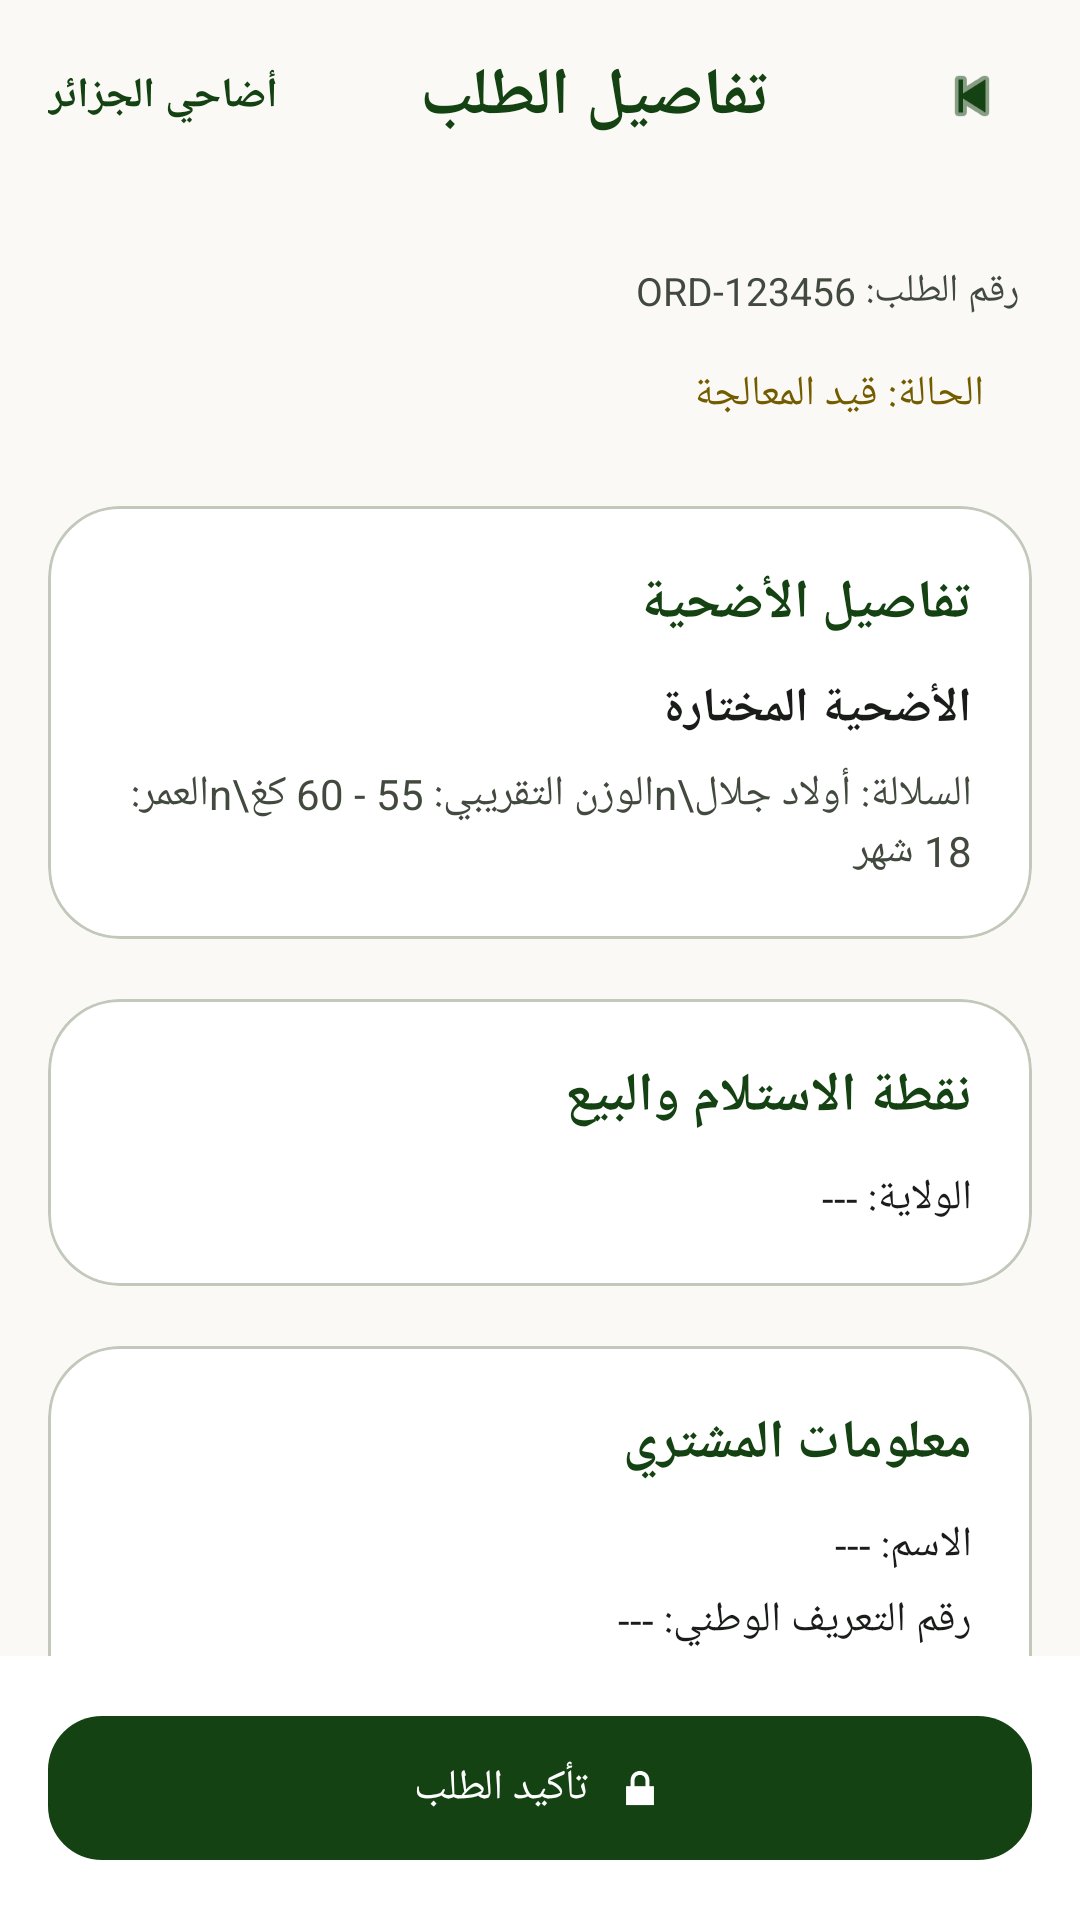

Named icons in this screenshot (1080 x 1920) and their centers, (x=x, y=y):
العودة للرئيسية: (x=972, y=96)
